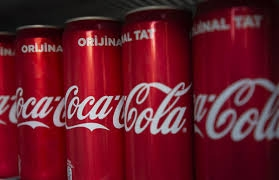can: (195, 1, 278, 180), (125, 1, 193, 180), (62, 13, 120, 180), (19, 22, 61, 180), (0, 27, 14, 180)
